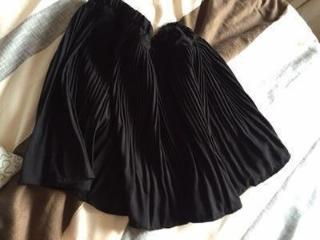skirt: (18, 0, 291, 231)
